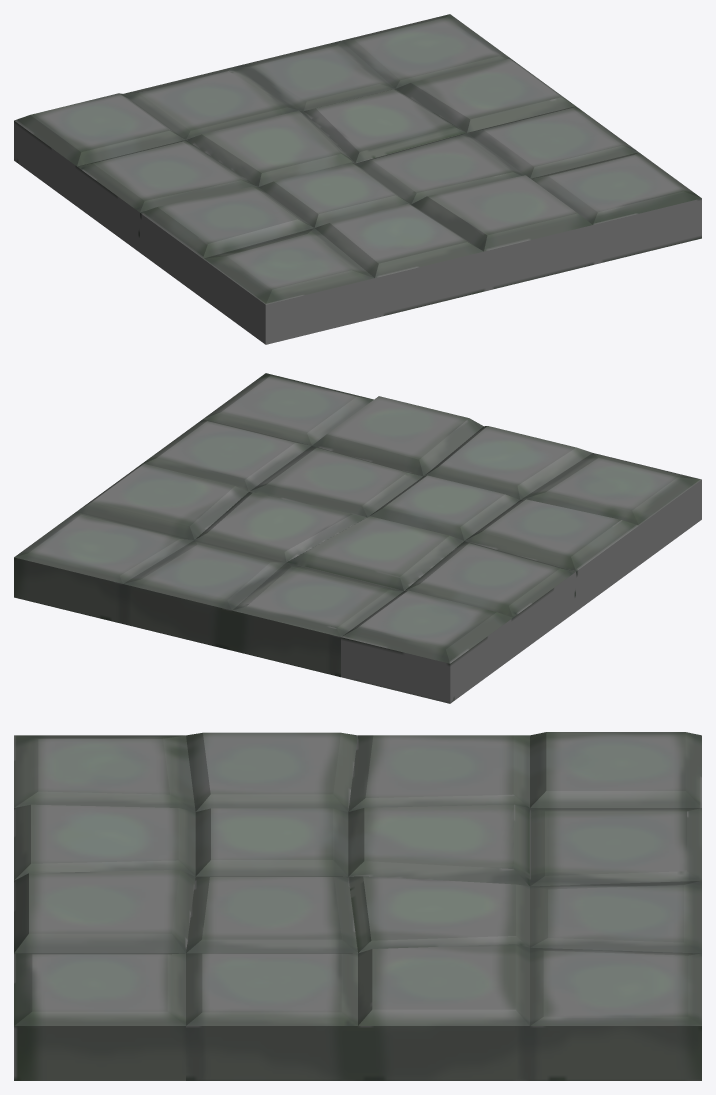
File: InsetStoneFloor.glb
The picture shows the model from 3 angles, top to bottom: view 1: azimuth 30°, elevation 25°; view 2: azimuth 150°, elevation 25°; view 3: azimuth 270°, elevation 25°; orthographic projection. The views are drawn at different scales.
Visible parts, largest first — view 1: Cube; view 2: Cube; view 3: Cube.
Boxes of the visible parts, x1,y1,x2,y2 form: Cube: (14,14,701,344); Cube: (14,373,701,703); Cube: (14,732,701,1080).
Size of the model in its own units: 2 by 0.2193 by 2.
1 material, 1 textured.
